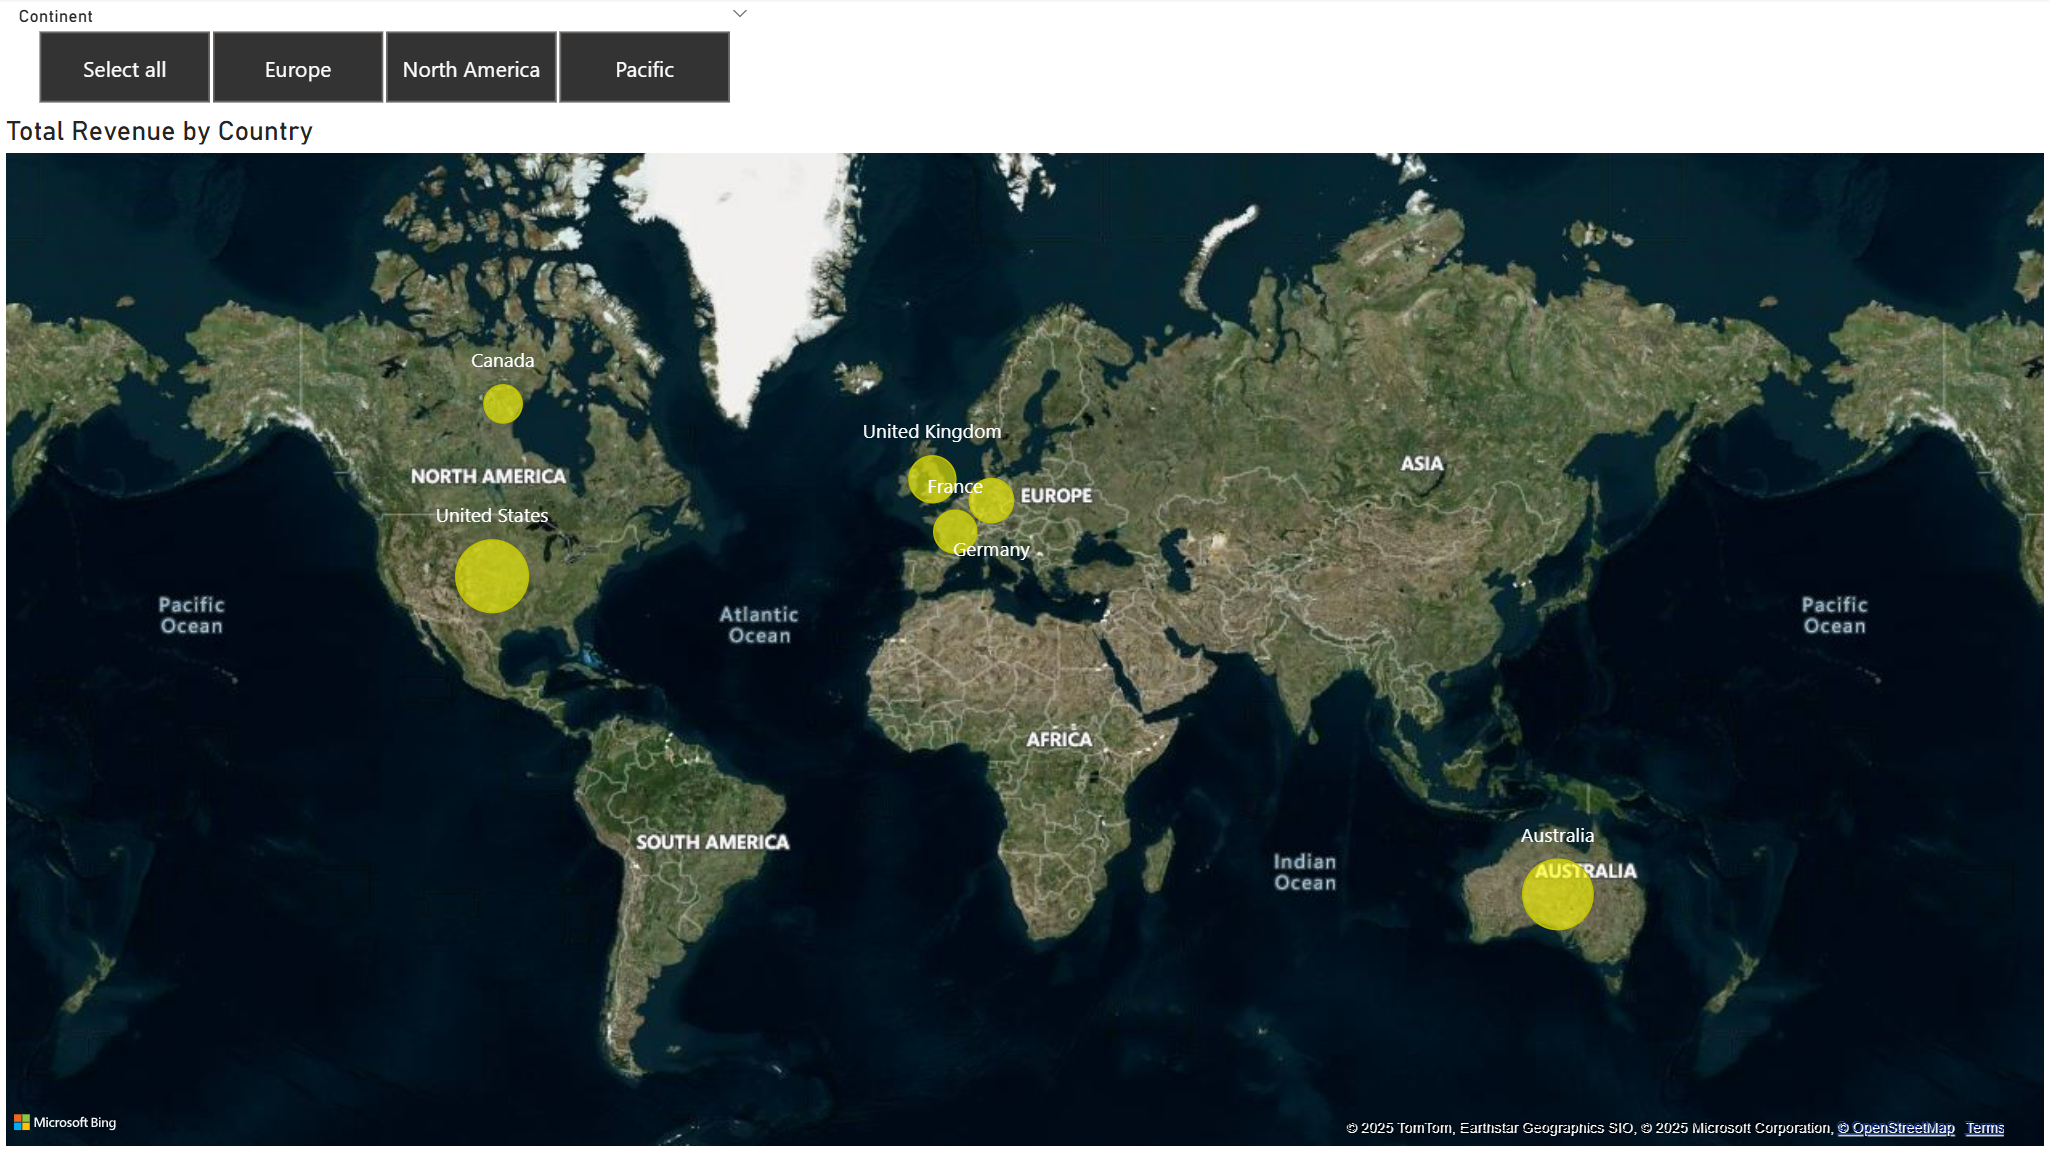

The page's visual inventory and layout, read from the dashboard file:
{"tool":"powerbi","page":{"name":"Regional Sale","canvas":[1280,720],"ordinal":1},"visuals":[{"type":"map","fields":{"Size":["Measure Table.Total Revenue"],"Category":["Territory.Country"]},"box":[0,72,1280,648],"z":0},{"type":"slicer","fields":{"Values":["Territory.Continent"]},"box":[0,0,480,72],"z":1000}]}

Visuals, with their boxes in screenshot pixels (x1, y1, x2, y2), scaled from the page's 1280x720 canvas onto the 2049x1151 screenshot:
map - Measure Table.Total Revenue x Territory.Country: Rect(0, 115, 2048, 1150)
slicer - Territory.Continent: Rect(0, 0, 768, 115)
